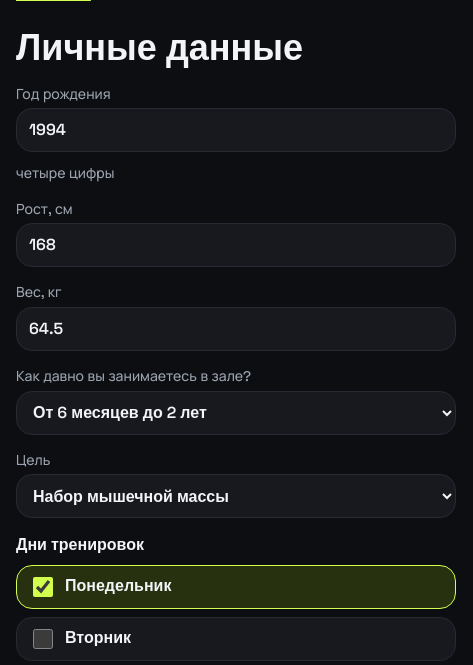
Test: личные данные › поля из профиля; сохранение шлёт только изменённое
Expected: the field labelled "Год рождения" holds "1994", [16, 108, 456, 152]
Expected: the dropdown labelled "Как давно вы занимаетесь в зале?" shows "От 6 месяцев до 2 лет", [16, 391, 456, 435]
Select "Сила" in the dropdown labelled "Цель" at {"x": 236, "y": 496}, box [16, 474, 456, 518]
(page scrolled)
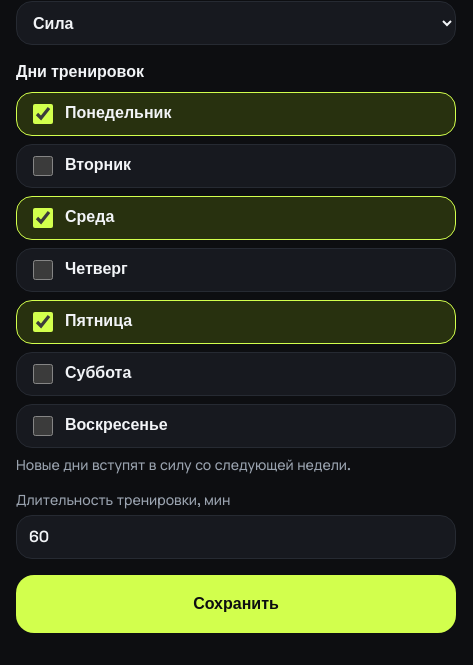
Click the checkbox labelled "Суббота" at {"x": 43, "y": 374}, box [33, 364, 53, 384]
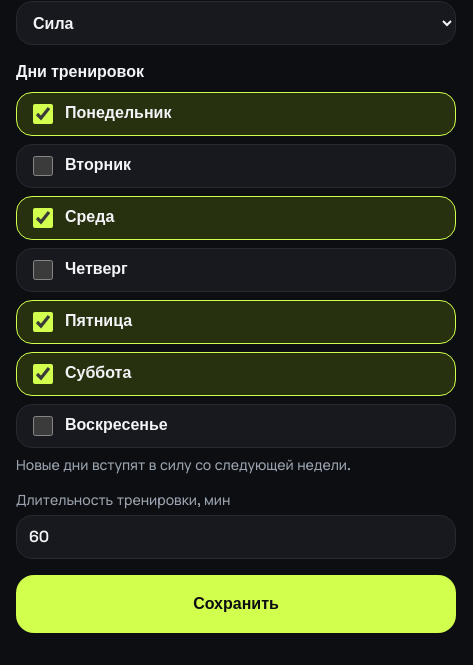
Click the button "Сохранить" at {"x": 236, "y": 604}, box [16, 575, 456, 633]
(page scrolled)
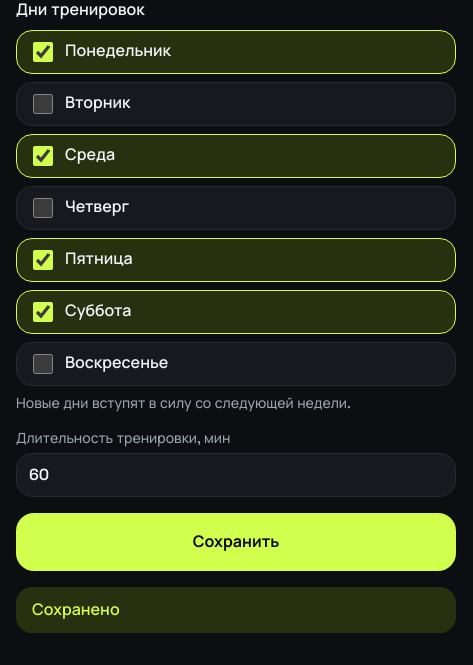
Now the text "Сохранено" is shown, box [16, 587, 456, 633]
